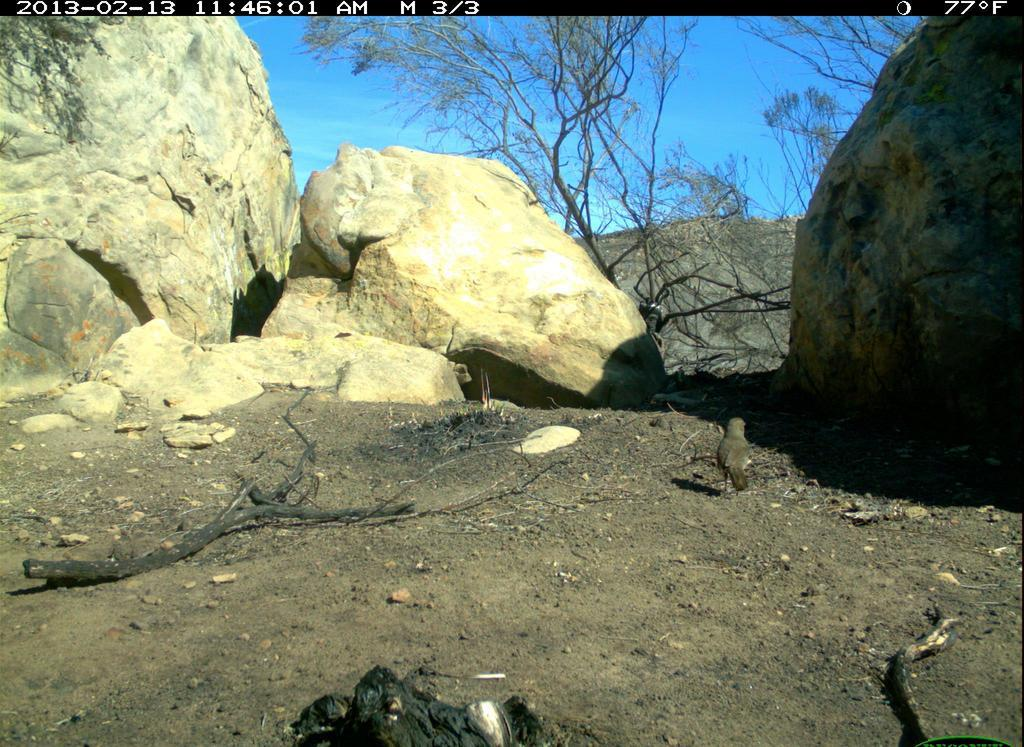bird: (710, 393, 756, 507)
